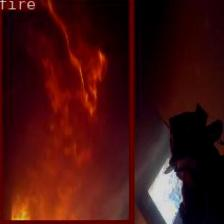fire: (0, 0, 132, 223)
